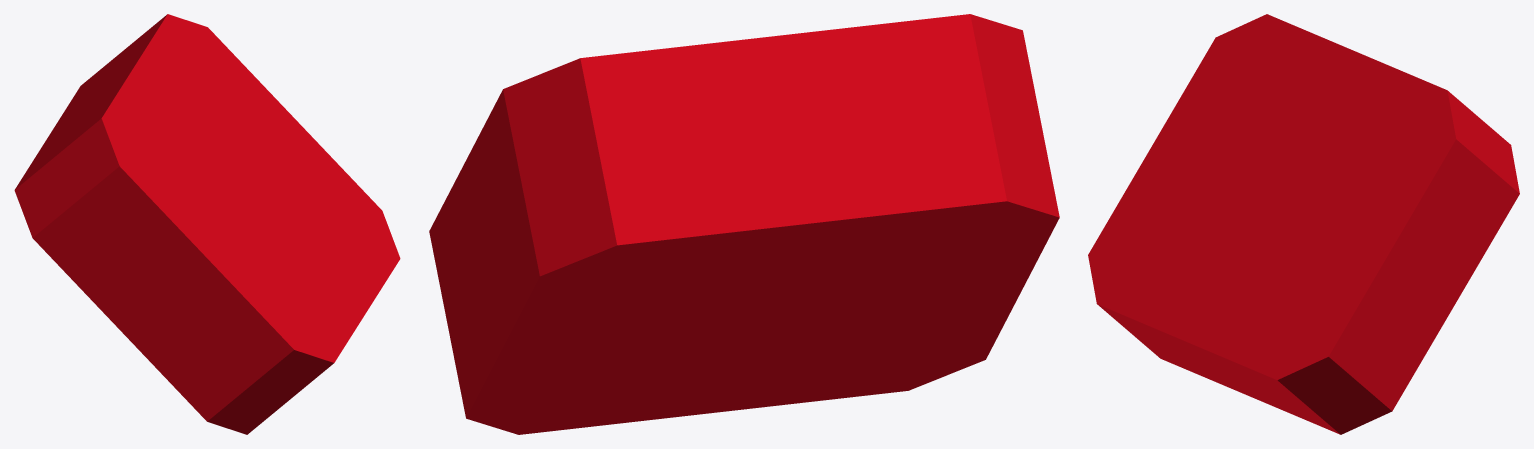
The model's file is medipack.fbx.
3 renders of one model, left to right at view 1: azimuth 30°, elevation 25°; view 2: azimuth 150°, elevation 25°; view 3: azimuth 270°, elevation 25°, orthographic. The views are drawn at different scales.
Visible parts, largest first — view 1: Plane; view 2: Plane; view 3: Plane.
Boxes of the visible parts, x1,y1,x2,y2 form: Plane: (14,14,400,434); Plane: (429,14,1059,434); Plane: (1088,14,1519,434).
Size of the model in its own units: 254 by 194 by 254.
